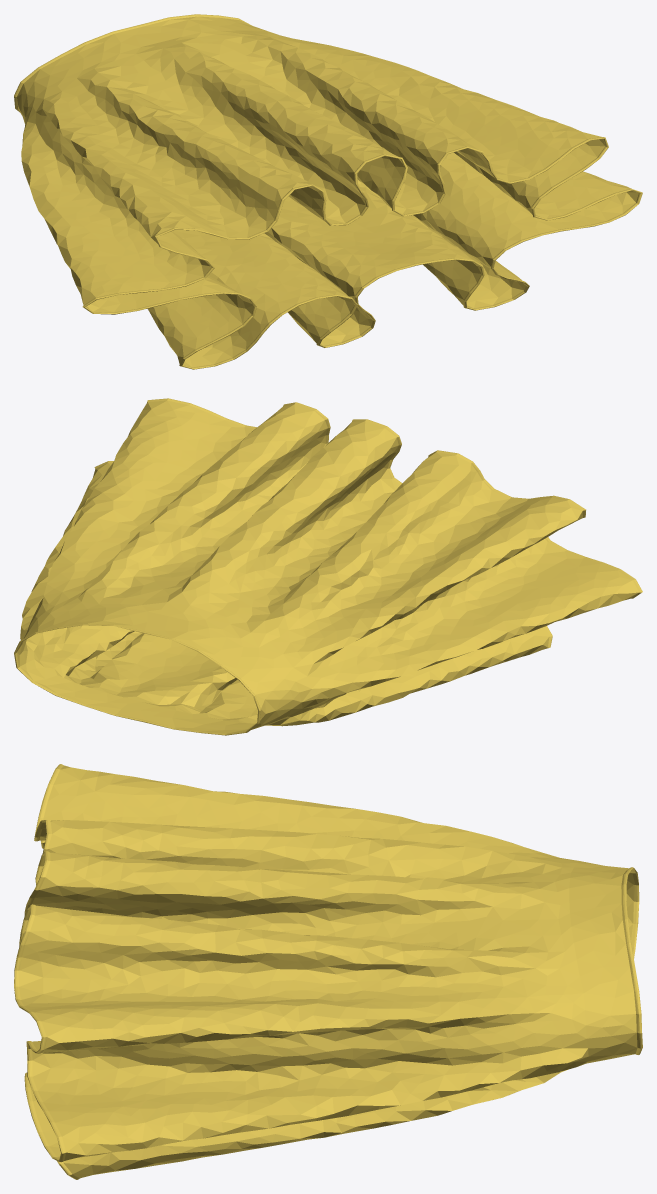
Rendered from Falda.fbx.
3 views of the same model, one above another, from view 1: azimuth 30°, elevation 25°; view 2: azimuth 150°, elevation 25°; view 3: azimuth 270°, elevation 25° (orthographic). The views are drawn at different scales.
Parts seen in each view (by area): view 1: crop_top_and_skirt; view 2: crop_top_and_skirt; view 3: crop_top_and_skirt.
Boxes of the visible parts, x1,y1,x2,y2 form: crop_top_and_skirt: [14, 14, 642, 369]; crop_top_and_skirt: [14, 398, 642, 735]; crop_top_and_skirt: [14, 764, 642, 1179].
Size of the model in its own units: 54.08 by 18.3 by 42.98.
